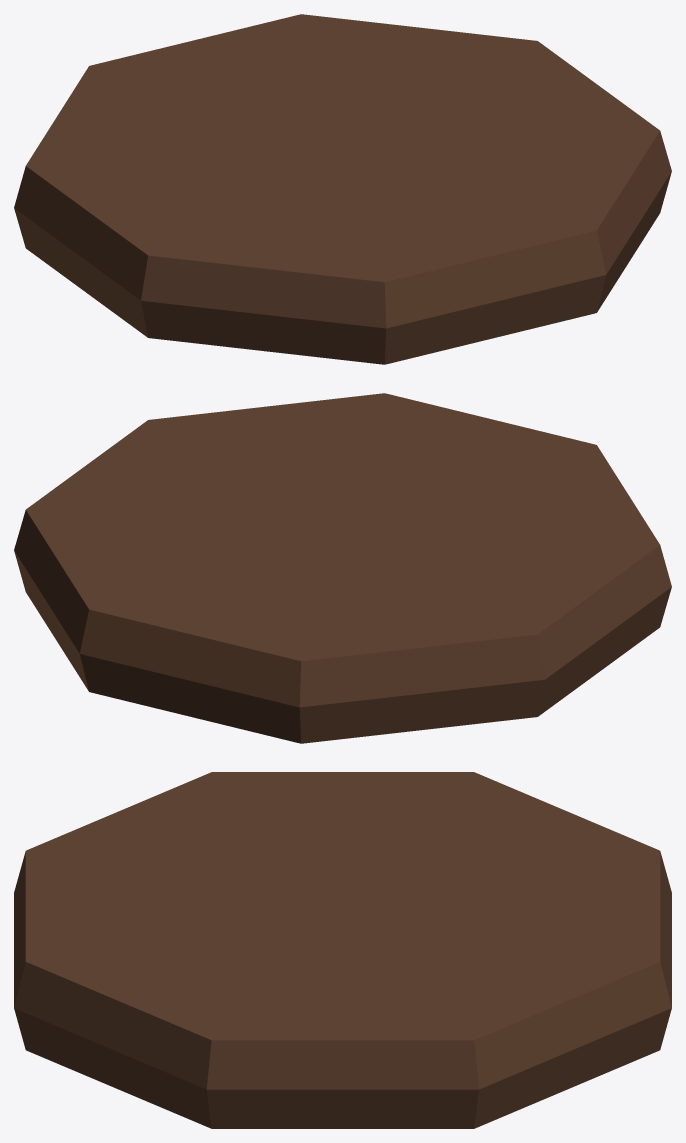
File: SM_Props_Interior_SuperMarket_Item_Food_Meat_01.fbx
The picture shows the model from 3 angles, top to bottom: view 1: azimuth 30°, elevation 25°; view 2: azimuth 150°, elevation 25°; view 3: azimuth 270°, elevation 25°; orthographic projection. The views are drawn at different scales.
Visible parts, largest first — view 1: SM_Props_Interior_SuperMarket_Item_Food_Meat_01; view 2: SM_Props_Interior_SuperMarket_Item_Food_Meat_01; view 3: SM_Props_Interior_SuperMarket_Item_Food_Meat_01.
Part boxes in pixels (<box>): SM_Props_Interior_SuperMarket_Item_Food_Meat_01: <box>14,14,671,364</box>; SM_Props_Interior_SuperMarket_Item_Food_Meat_01: <box>14,393,671,743</box>; SM_Props_Interior_SuperMarket_Item_Food_Meat_01: <box>14,772,671,1128</box>.
Bounding box in the file's own units: 11.57 × 1.72 × 11.57.
